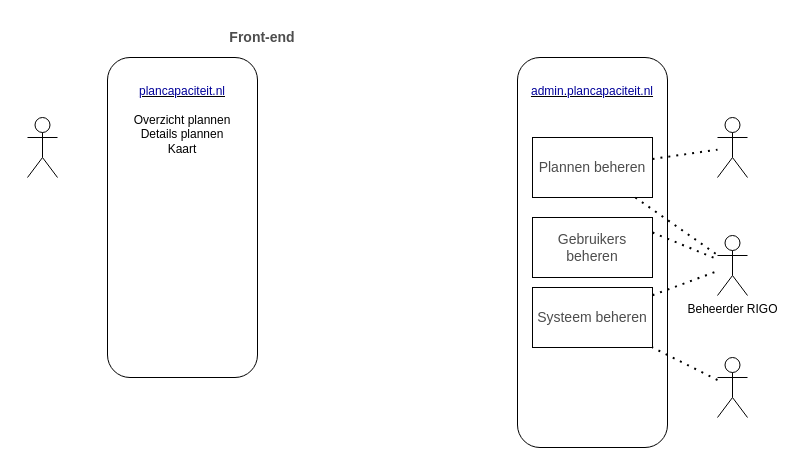
Some shapes in this 806 by 465 pixel diagram are drawn without their labels. The centre of each missing label's shape, as x and y in pixels:
Beheerder Finalist: point 732,387
Beheerder gemeente: point 732,147
Bezoeker: point 42,147
